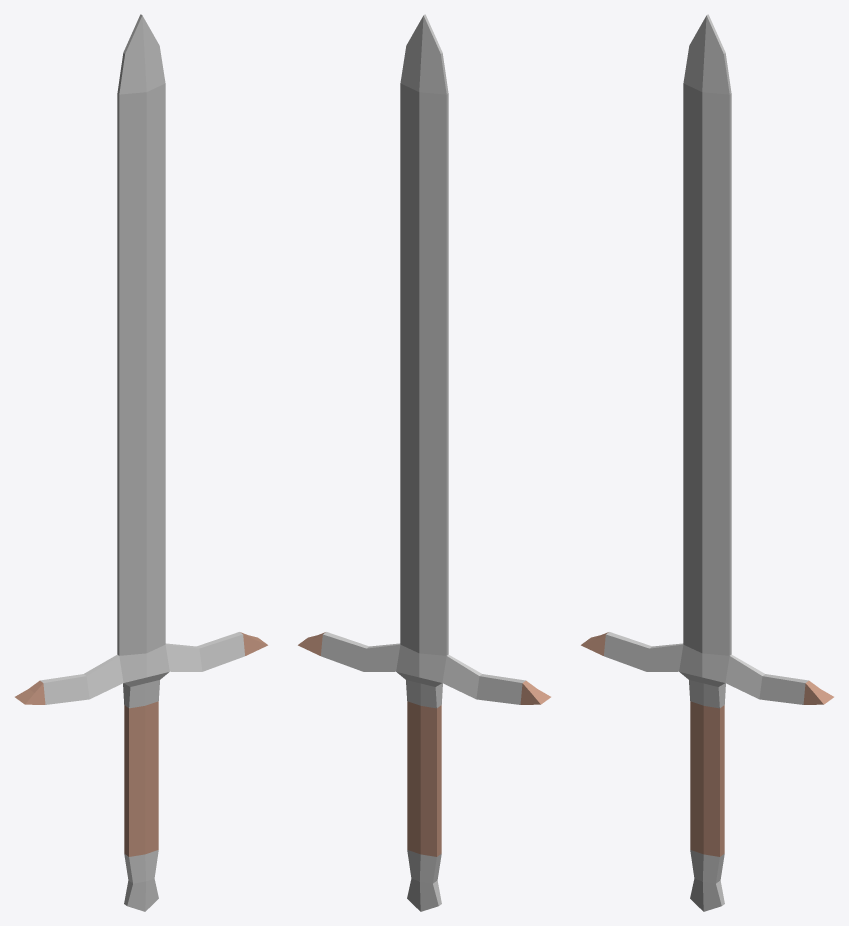
Rendered from Sword.fbx.
3 renders of one model, left to right at view 1: azimuth 30°, elevation 25°; view 2: azimuth 150°, elevation 25°; view 3: azimuth 330°, elevation 25°, orthographic.
Parts seen in each view (by area): view 1: EspadaArriba; view 2: EspadaArriba; view 3: EspadaArriba.
Boxes of the visible parts, x1=… form: EspadaArriba: x1=15, y1=14, x2=267, y2=911; EspadaArriba: x1=298, y1=14, x2=550, y2=911; EspadaArriba: x1=581, y1=14, x2=833, y2=911.
Size of the model in its own units: 205 by 720 by 15.31.
